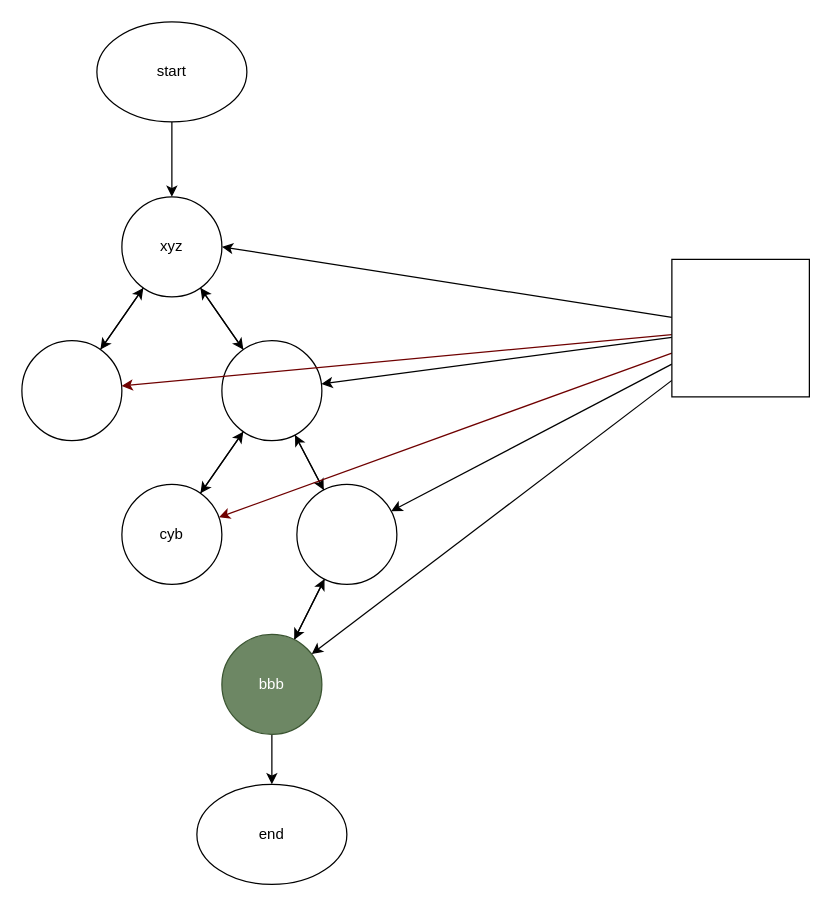
Some shapes in this 831 by 906 pixel diagram are drawn without their labels. Each missing label, with the box of its shape:
xbb: (296, 483, 397, 584)
xyb: (221, 339, 322, 441)
xyc: (21, 339, 122, 441)
